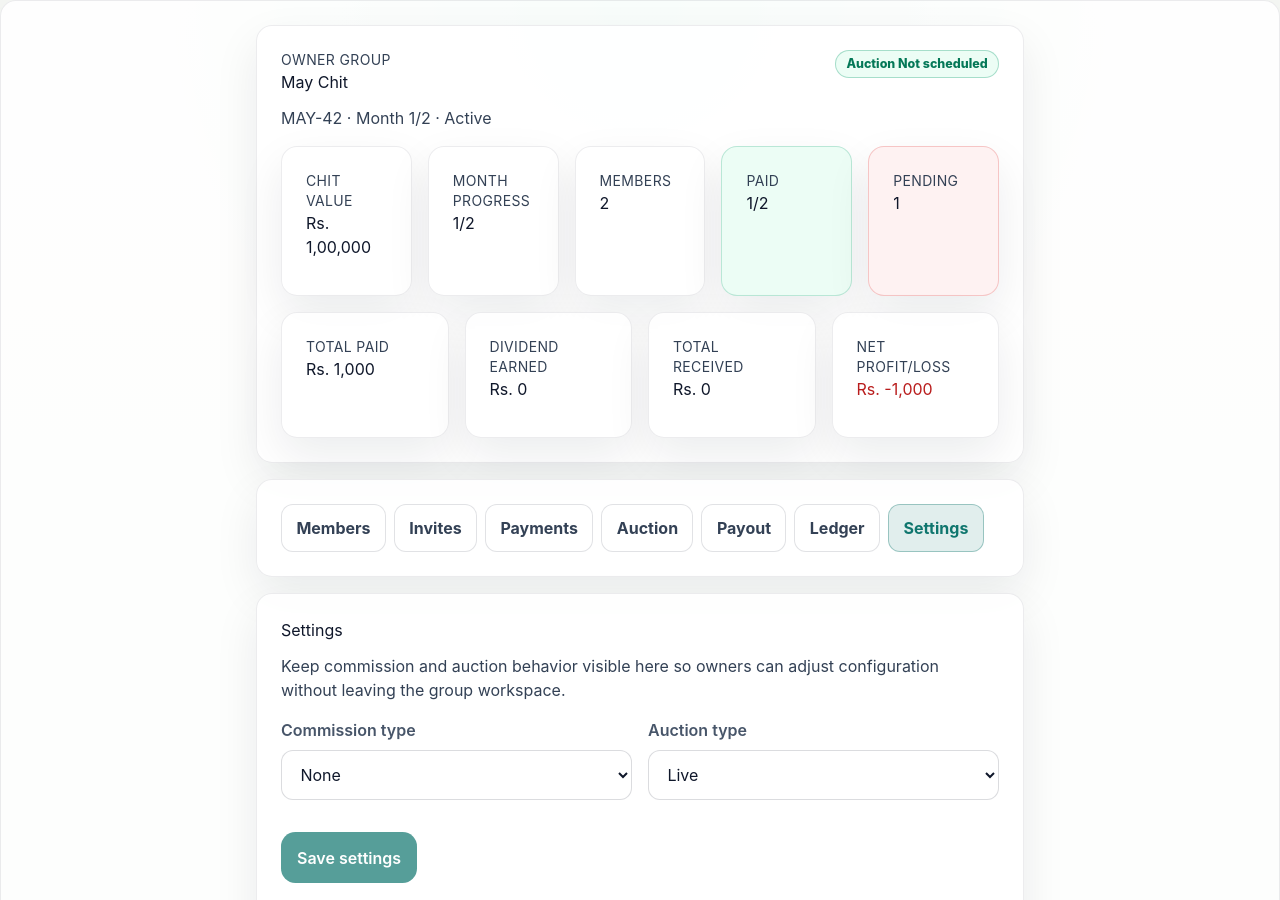
Test: saves commission and auction settings from the settings tab
The width and height of the screenshot is (1280, 900).
Expected: the dropdown labelled "Auction type" shows "Live", [648,750,999,800]
Select "First month" in the dropdown labelled "Commission type" at [456, 775], box [281,750,632,800]
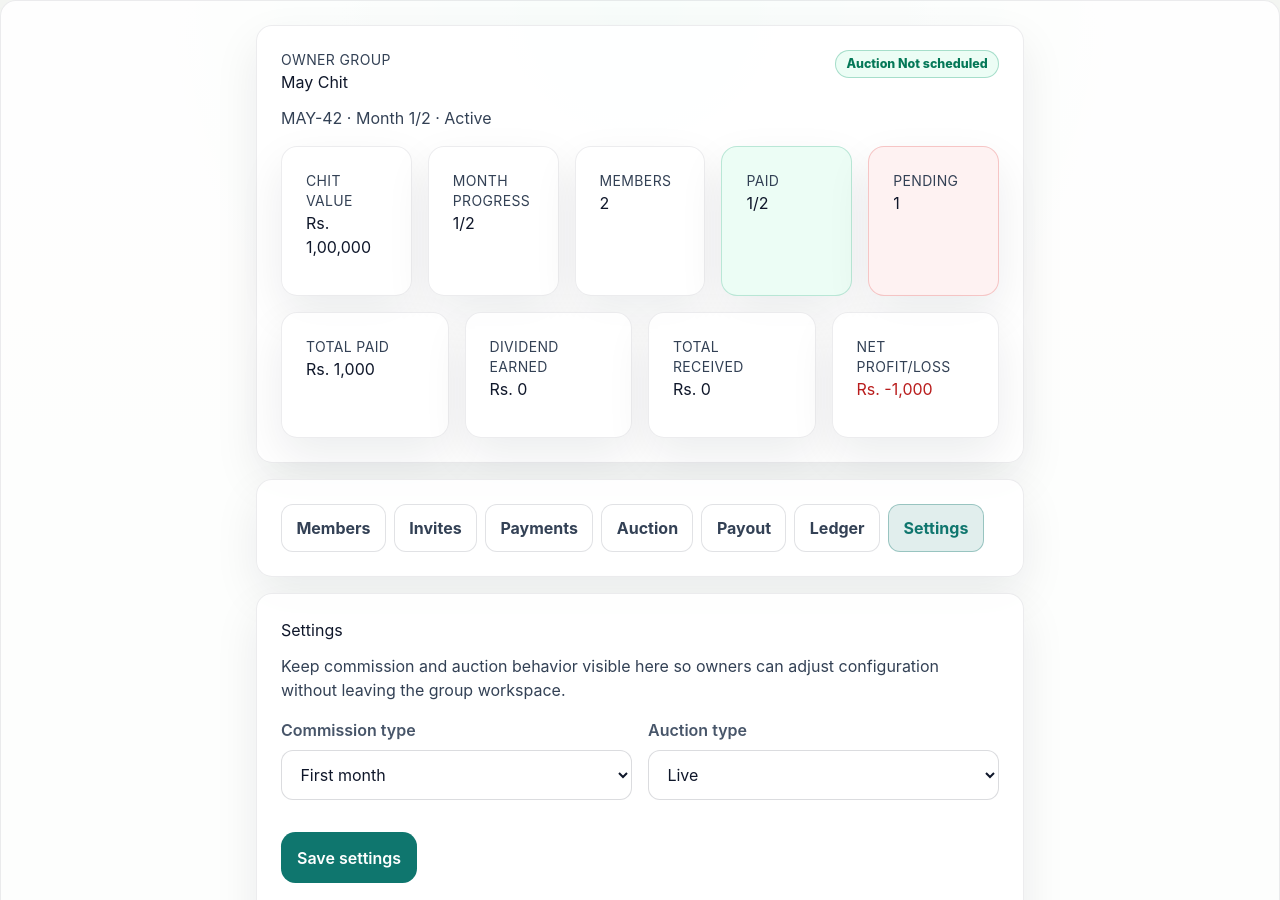
Select "Blind" in the dropdown labelled "Auction type" at [824, 775], box [648,750,999,800]
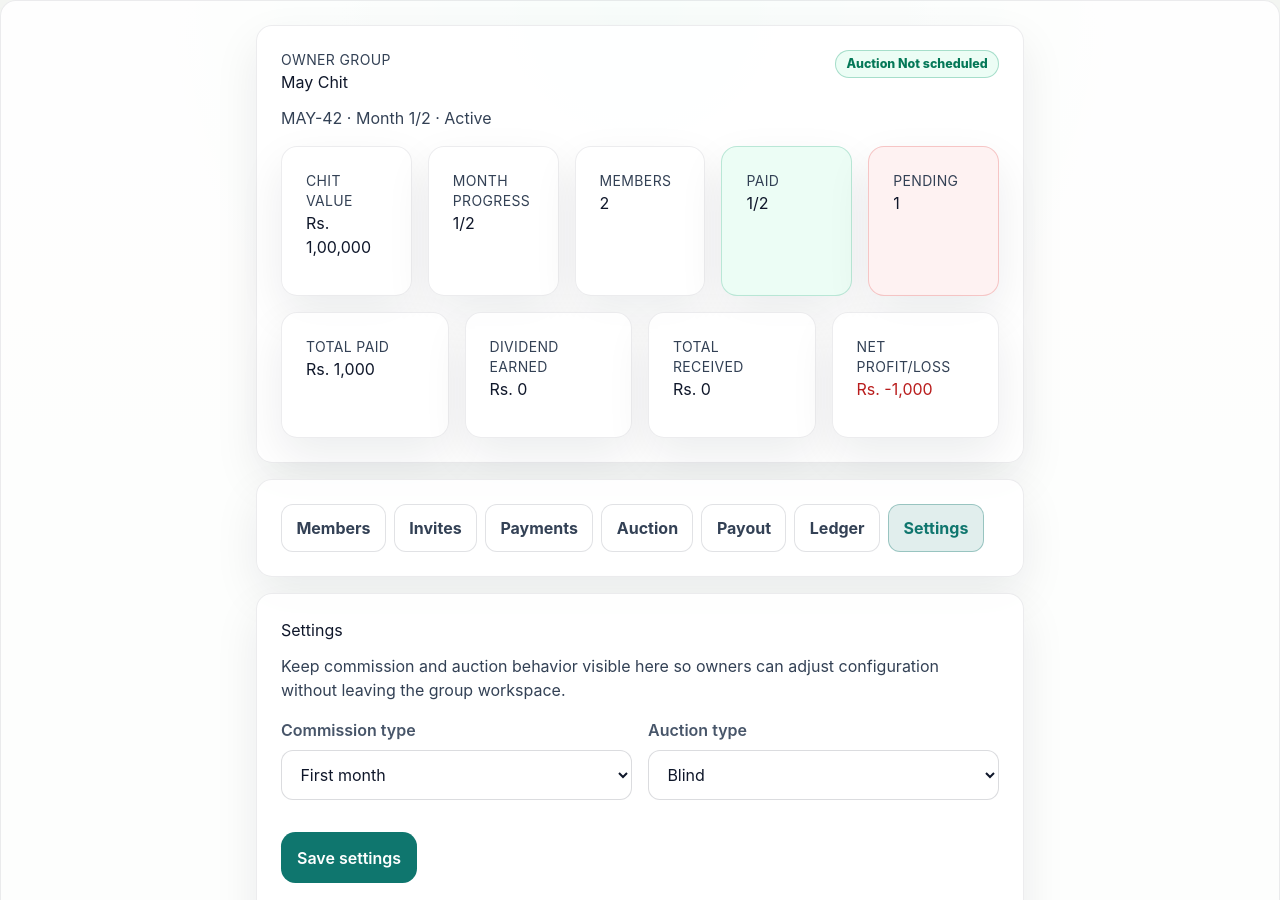
Click the button "Save settings" at [349, 858], box [281,832,417,883]
(page scrolled)
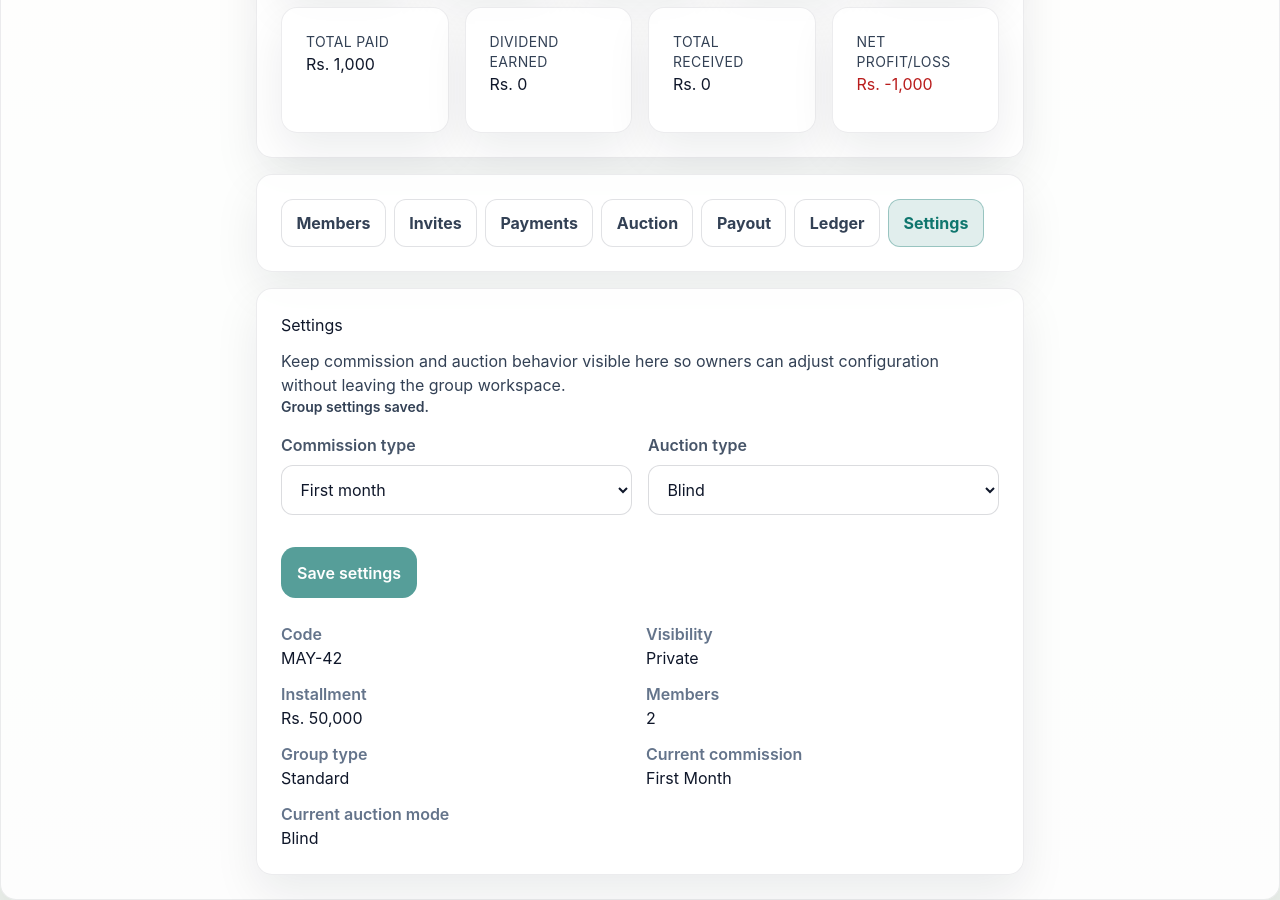
Expected: the text "Group settings saved." is shown, [281,398,429,415]
Expected: the text "First Month" is shown, [646,768,732,788]
Expected: the text "Blind" is shown, [281,828,318,848]
